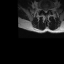CCS_stenosis: (45, 7, 46, 14)
LFS_stenosis: (48, 6, 50, 12)
LLS_normal: (46, 7, 48, 13)
RFS_stenosis: (41, 7, 43, 12)
RLS_normal: (43, 7, 45, 13)
